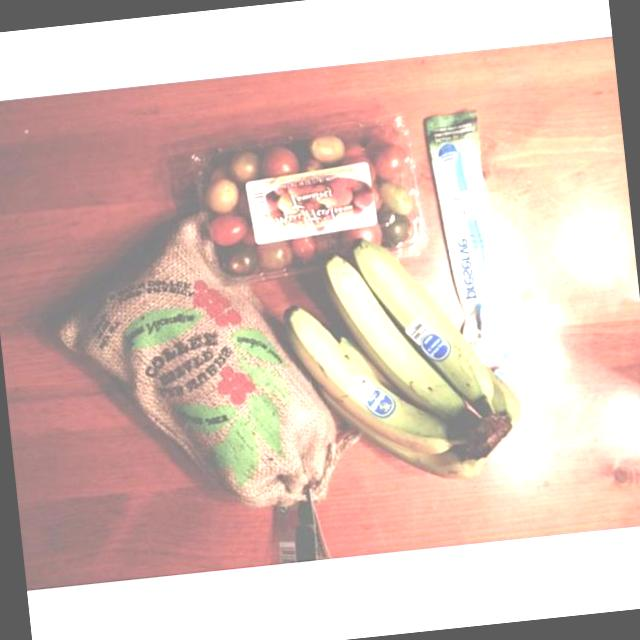Banana: (247, 224, 515, 496)
